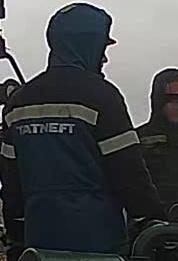helmet: (158, 74, 178, 99)
vest: (0, 71, 123, 256), (134, 120, 178, 199)
